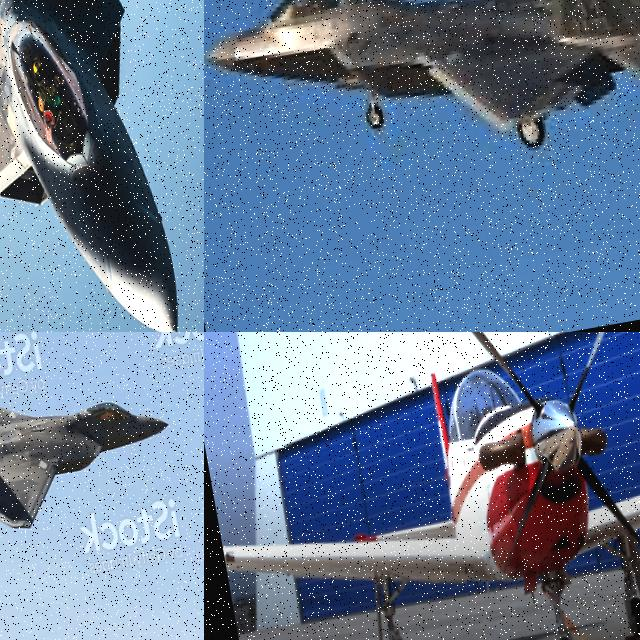F22: (204, 0, 640, 199), (0, 0, 204, 332), (0, 332, 185, 564)
KT-1: (204, 332, 640, 640)
